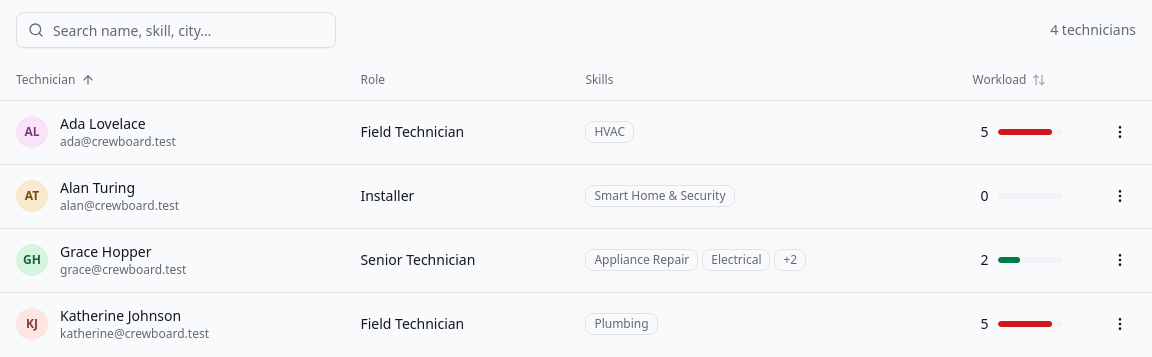
Test case: TechniciansTable › lists a category's specialties when its badge is hovered
Hover over the button with aria-label "Appliance Repair:" at (642, 260), box [585,249,698,271]
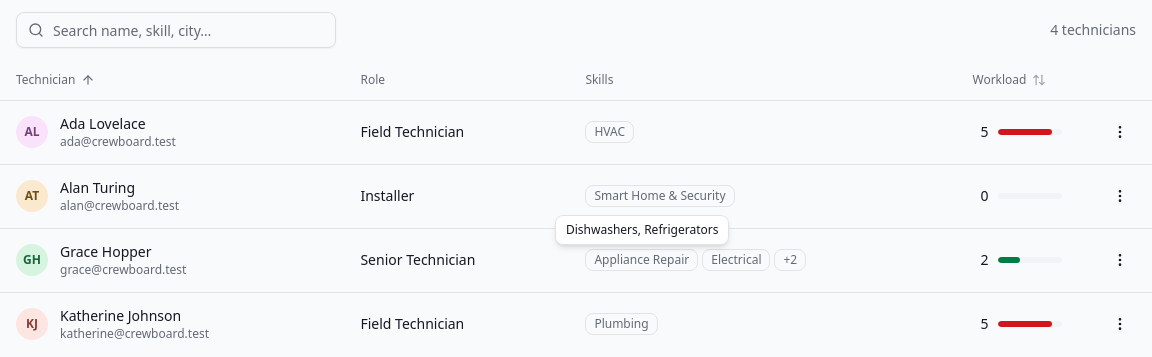
Now the tooltip reads "Dishwashers, Refrigerators", box [566,221,718,238]
